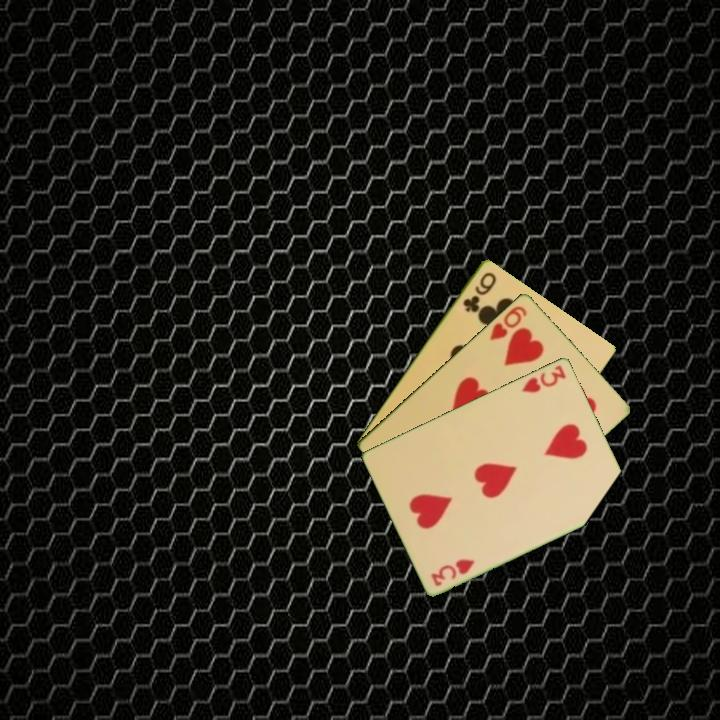3h: (518, 361, 569, 395), (427, 555, 478, 589)
6h: (486, 302, 530, 343)
9c: (459, 268, 499, 315)
